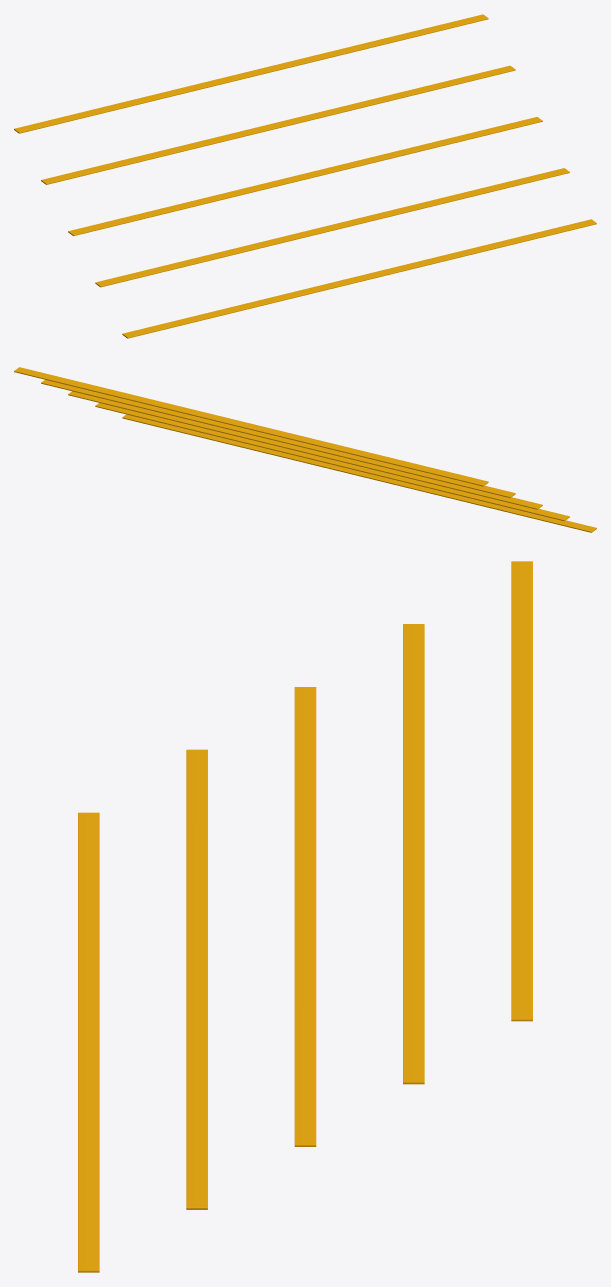
File: gteki_ik_stair_n5_r174_t272_w2738_nosing.glb
3 renders of one model, top to bottom at view 1: azimuth 30°, elevation 25°; view 2: azimuth 150°, elevation 25°; view 3: azimuth 270°, elevation 25°, orthographic. The views are drawn at different scales.
Parts seen in each view (by area): view 1: VIS_nosings; view 2: VIS_nosings; view 3: VIS_nosings.
Part boxes in pixels (x1,y1,x2,y2): VIS_nosings: [14, 14, 596, 338]; VIS_nosings: [14, 367, 596, 532]; VIS_nosings: [78, 561, 532, 1272].
Bounding box in the file's own units: 2.72 × 0.702 × 1.14.
